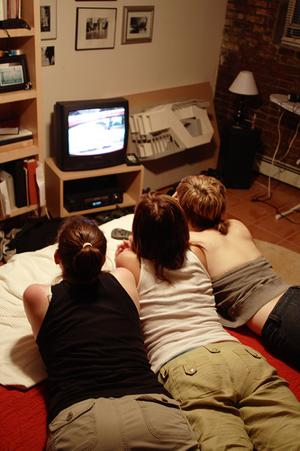person: (117, 195, 300, 450)
